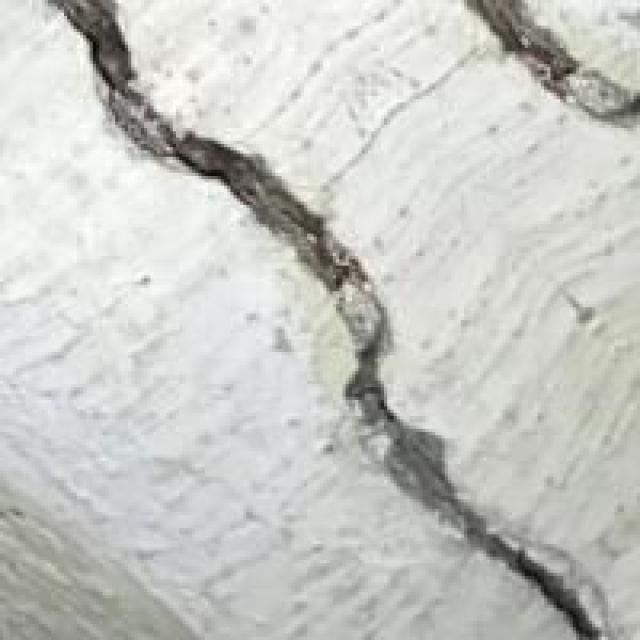crack: (45, 6, 637, 637)
